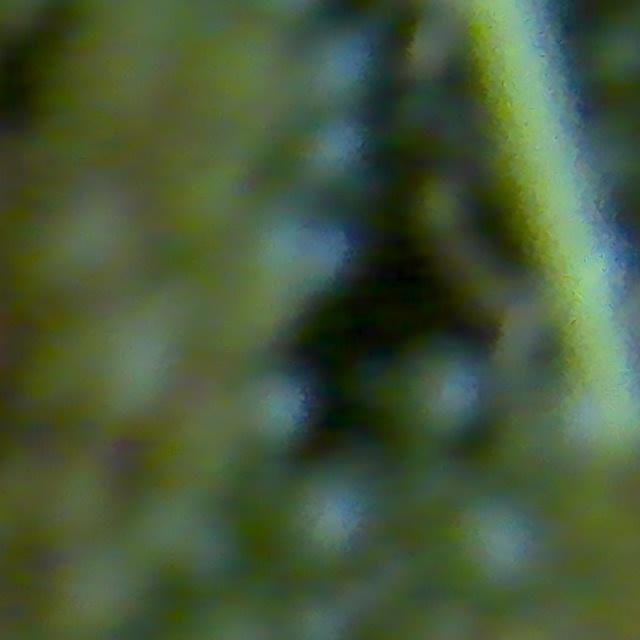SeaGrape: (130, 483, 242, 586), (237, 205, 350, 305), (442, 506, 548, 610), (43, 539, 151, 640), (270, 473, 370, 574), (297, 26, 377, 110), (231, 369, 310, 449), (293, 112, 368, 189), (411, 354, 479, 435), (588, 15, 640, 91), (283, 591, 355, 640)
